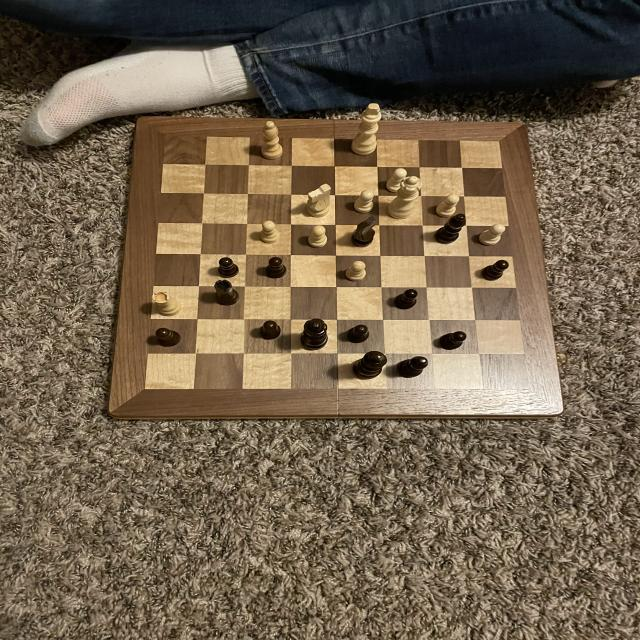bishop: (431, 211, 468, 246), (393, 352, 432, 380)
black-bishop: (348, 349, 392, 381)
black-king: (346, 214, 385, 249)
black-knight: (435, 326, 468, 354), (341, 322, 374, 347), (478, 259, 511, 283), (391, 286, 421, 312), (261, 255, 290, 281), (153, 326, 184, 349), (258, 318, 286, 341), (216, 255, 241, 279)
black-pawn: (298, 316, 332, 354)
black-queen: (210, 278, 243, 308)
black-rook: (259, 118, 285, 162)
white-bishop: (346, 101, 386, 157)
white-king: (304, 181, 336, 219)
white-knight: (475, 220, 508, 248), (350, 187, 379, 216), (341, 259, 374, 284), (433, 191, 462, 219), (306, 223, 333, 251), (382, 167, 409, 195), (257, 219, 284, 246)
white-pawn: (384, 174, 426, 222)
white-queen: (150, 289, 185, 318)
